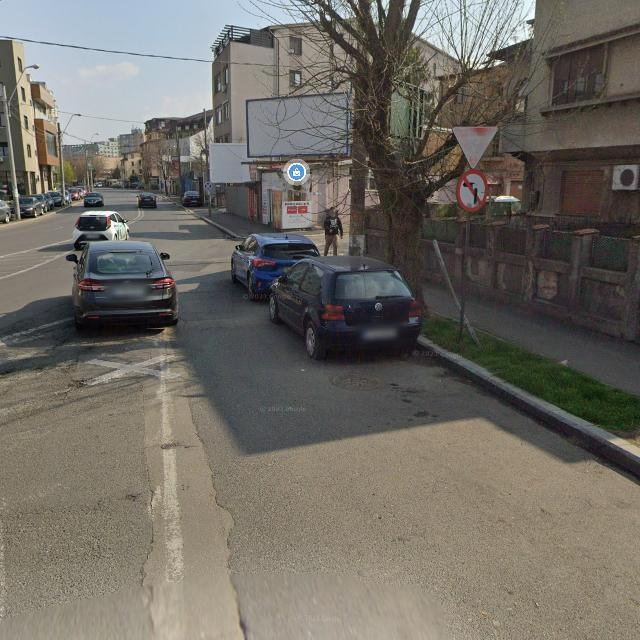prio_give_way: (452, 125, 502, 170)
